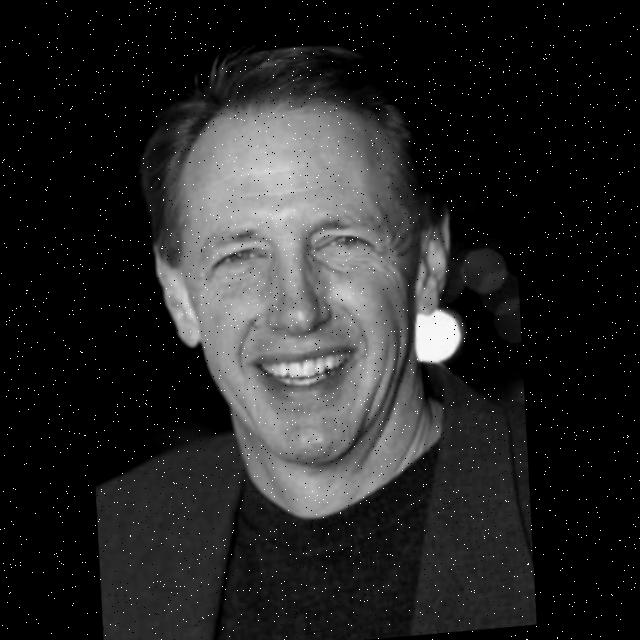face: (125, 42, 483, 494)
